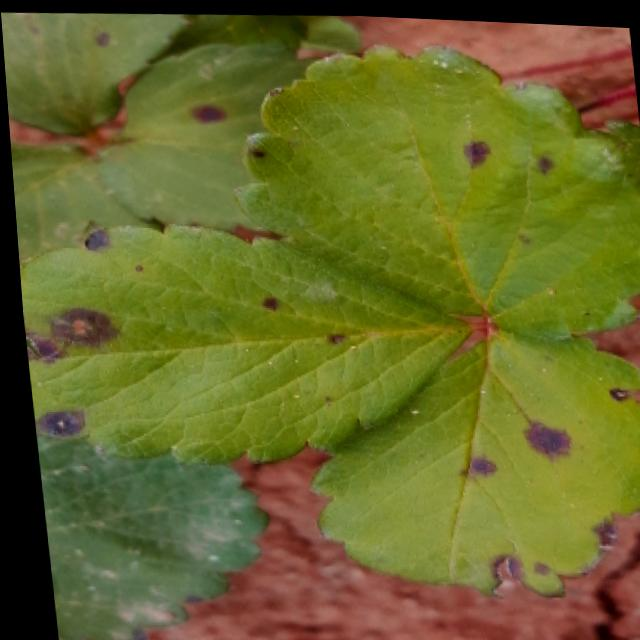Leaf Spot: (230, 34, 640, 334), (15, 218, 470, 465), (303, 316, 640, 593)
